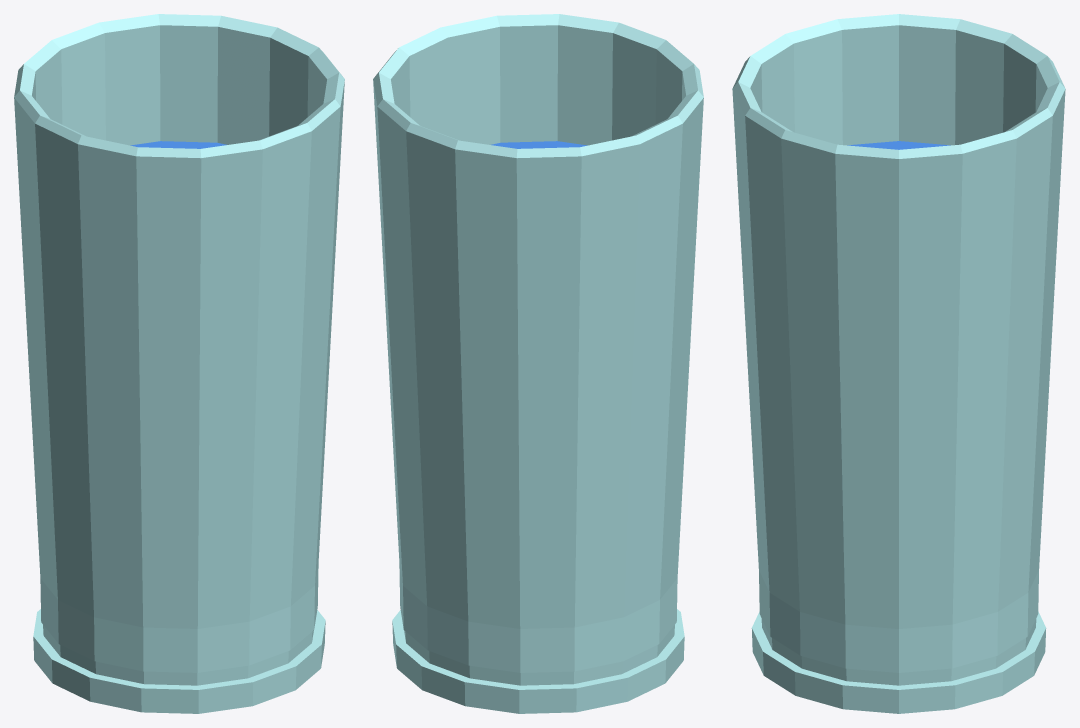
File: cupFilledBlue.fbx
3 views of the same model, side by side, from view 1: azimuth 30°, elevation 25°; view 2: azimuth 150°, elevation 25°; view 3: azimuth 270°, elevation 25° (orthographic).
Parts seen in each view (by area): view 1: Cup, Juice; view 2: Cup, Juice; view 3: Cup, Juice.
Part boxes in pixels (box(x1,y1,x2,y2)): Cup: box(14, 14, 344, 713); Juice: box(130, 141, 226, 148); Cup: box(373, 14, 703, 713); Juice: box(491, 141, 587, 148); Cup: box(732, 14, 1065, 713); Juice: box(847, 141, 950, 149).
Size of the model in its own units: 228 by 430 by 228.
